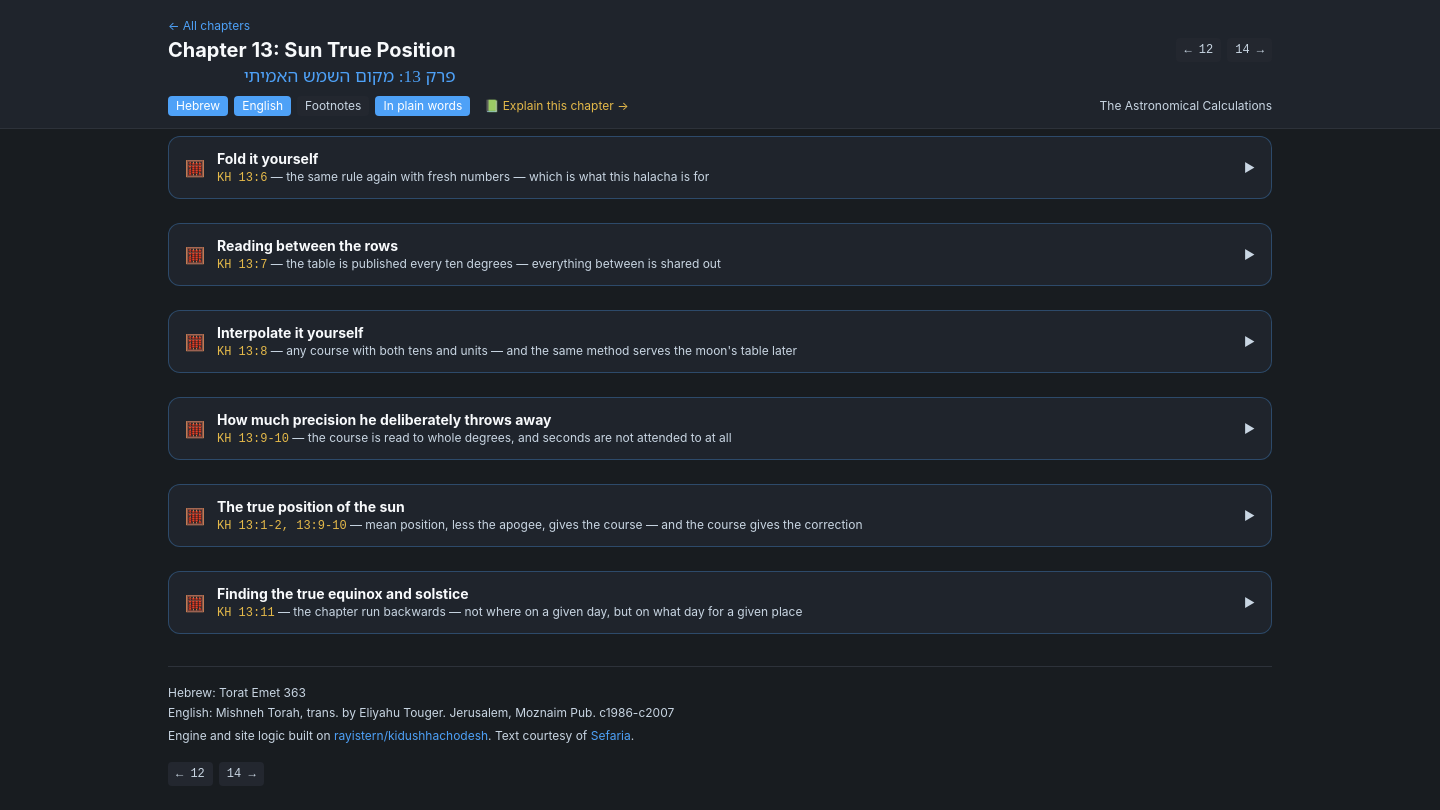
Test: TextChapter › walks the KH 13:9-10 chain to the result the text states
(page scrolled)
Click the button "The true position of the sun" at x=720, y=516, box [169,485,1271,546]
(page scrolled)
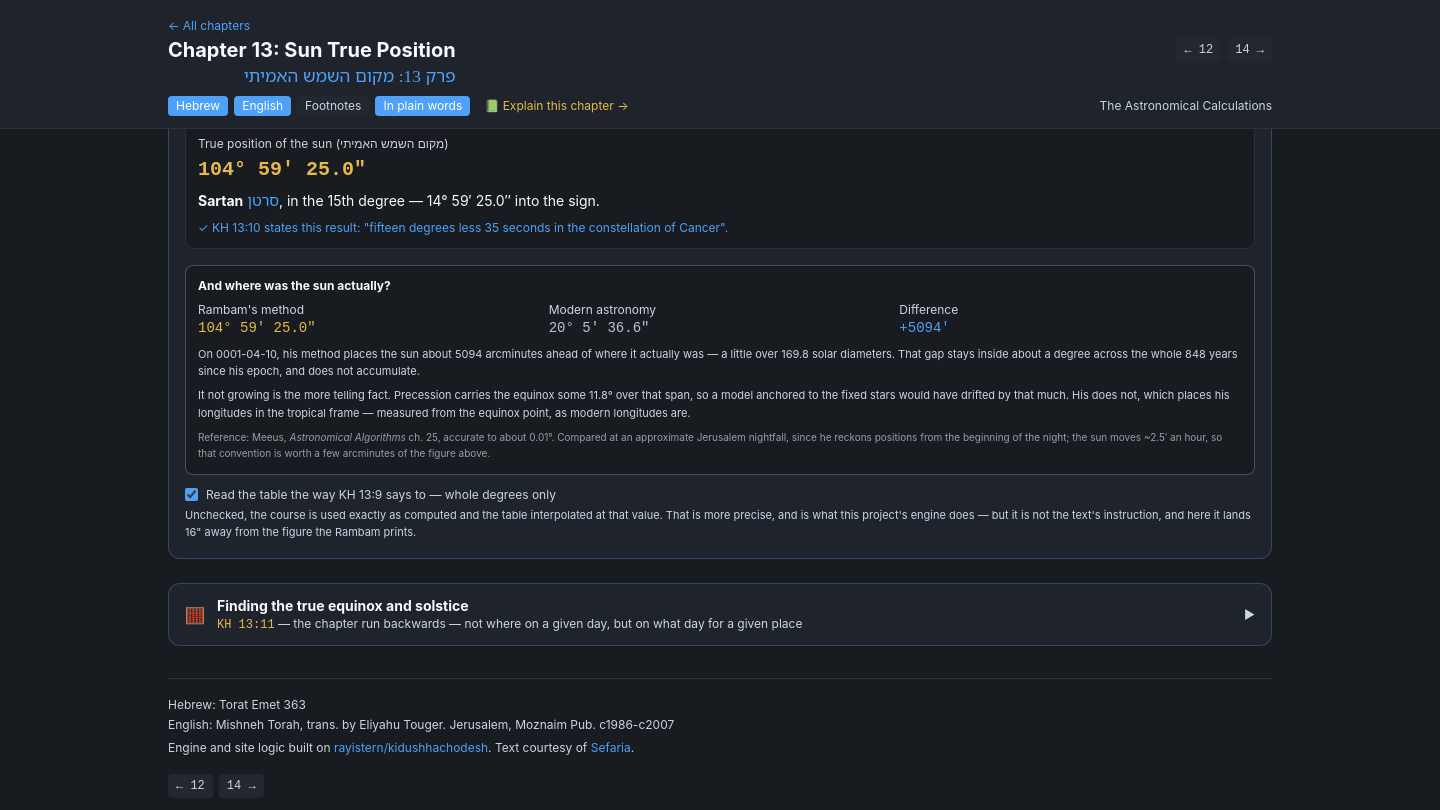
Result: the text "104° 59′ 25.0″" is shown 3 times at [215,70,333,90]; [198,158,366,181]; [198,320,316,336]
Result: the text "KH 13:10 states this result" is shown at [198,220,728,234]
Result: the text "Sartan" is shown at [198,192,243,209]
